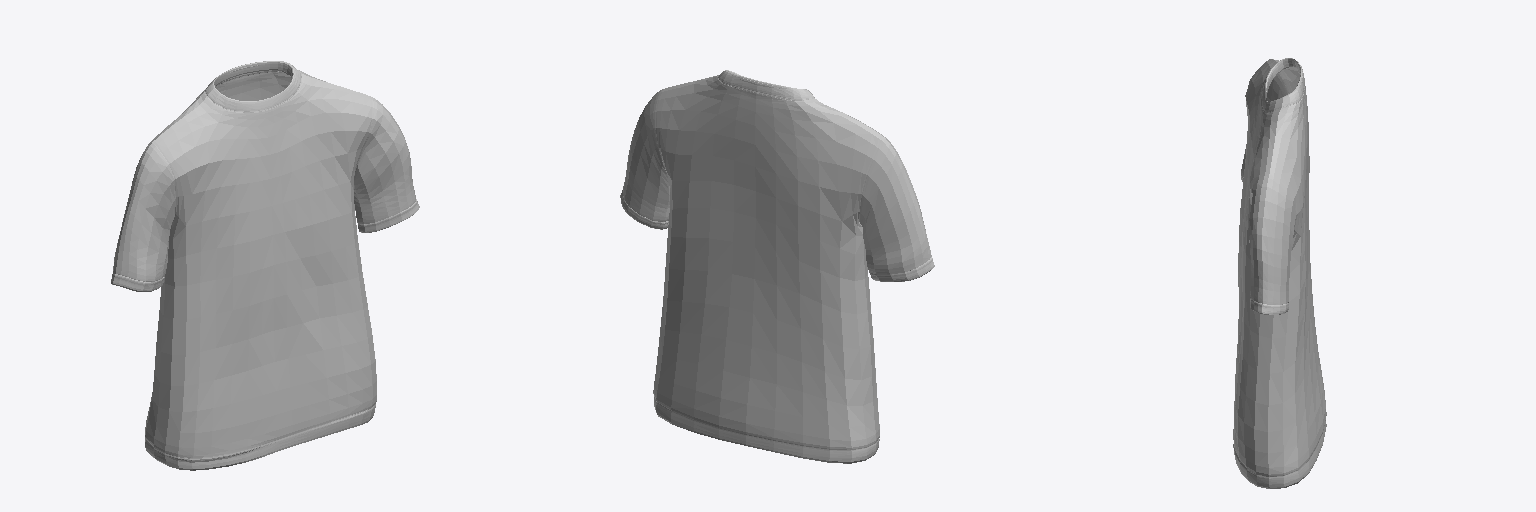
The model's file is Shirt_on_Hanger-Object__0.obj.
3 views of the same model, side by side, from view 1: azimuth 30°, elevation 25°; view 2: azimuth 150°, elevation 25°; view 3: azimuth 270°, elevation 25° (orthographic).
Parts seen in each view (by area): view 1: Group37256, Group5028; view 2: Group37256; view 3: Group37256, Group5028.
Part boxes in pixels (x1,y1,x2,y2): Group37256: (111, 61, 419, 470); Group5028: (215, 65, 290, 100); Group37256: (620, 70, 934, 463); Group37256: (1233, 58, 1326, 488); Group5028: (1266, 62, 1303, 101).
Bounding box in the file's own units: 0.5706 × 0.6465 × 0.1489.